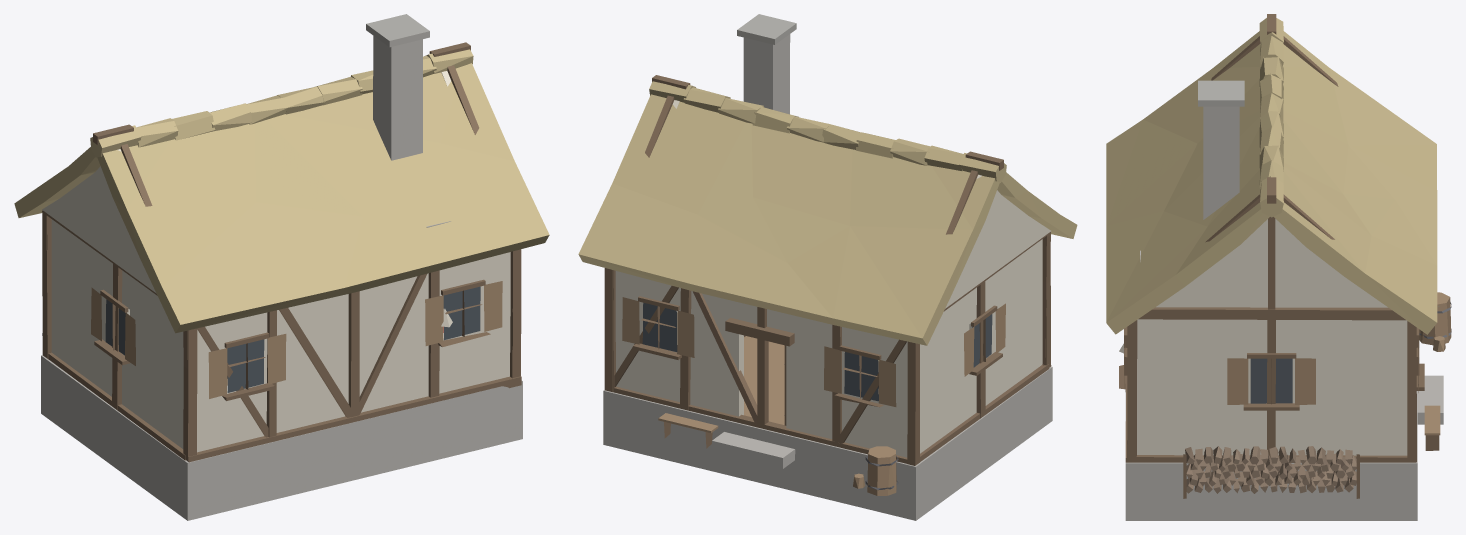
File: house_a_lod1.glb
3 views of the same model, side by side, from view 1: azimuth 30°, elevation 25°; view 2: azimuth 150°, elevation 25°; view 3: azimuth 270°, elevation 25° (orthographic). The views are drawn at different scales.
Parts seen in each view (by area): view 1: house_a.001; view 2: house_a.001; view 3: house_a.001.
Boxes of the visible parts, x1,y1,x2,y2 form: house_a.001: (14,14,549,520); house_a.001: (578,14,1077,520); house_a.001: (1106,14,1451,520).
Bounding box in the file's own units: 9.29 × 9.31 × 7.42.
